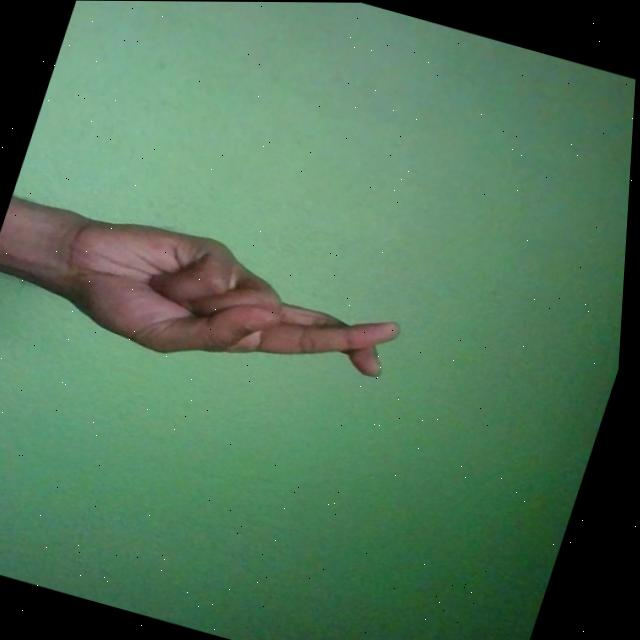Good Luck: (36, 200, 417, 410)
